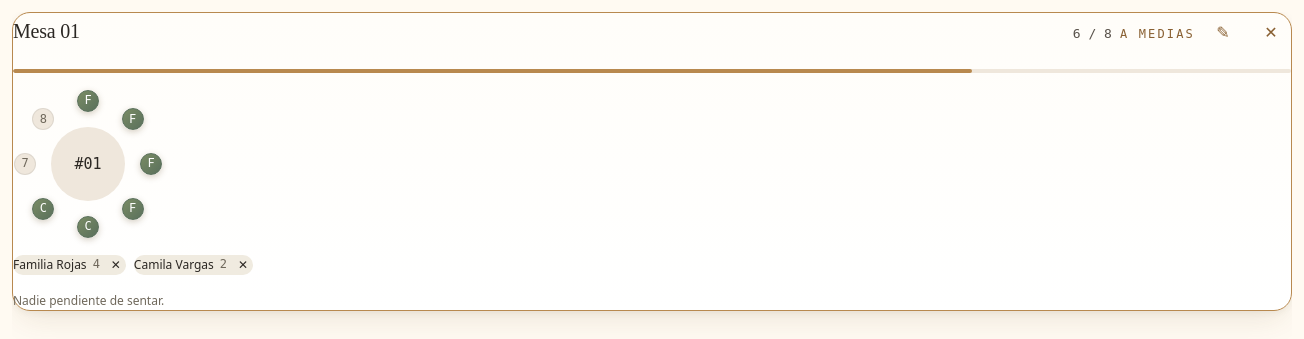
Test: TableCard · borrar una mesa › «No» se vuelve atrás sin borrar nada
The width and height of the screenshot is (1304, 339).
Click the button named "Eliminar Mesa 01".
click(1271, 33)  # box top-left (1251, 13), bottom-right (1291, 53)
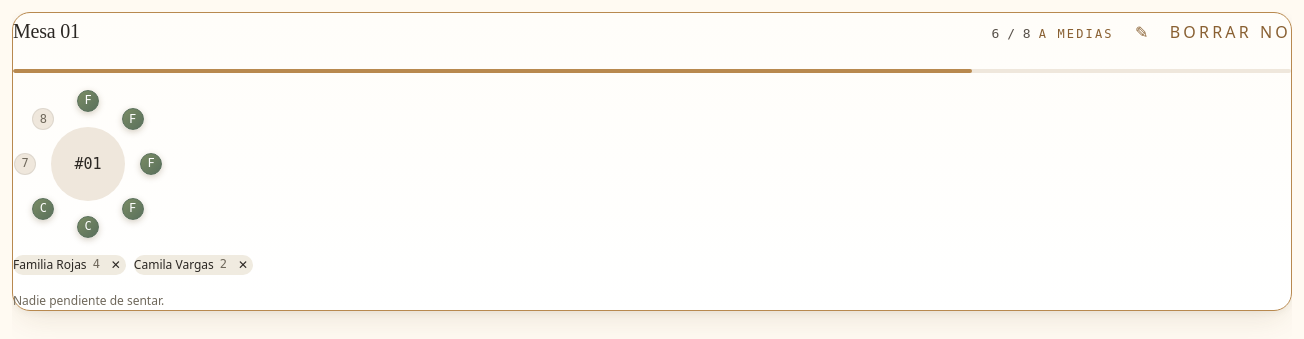
Click the button "No".
click(1275, 33)  # box top-left (1260, 20), bottom-right (1291, 46)
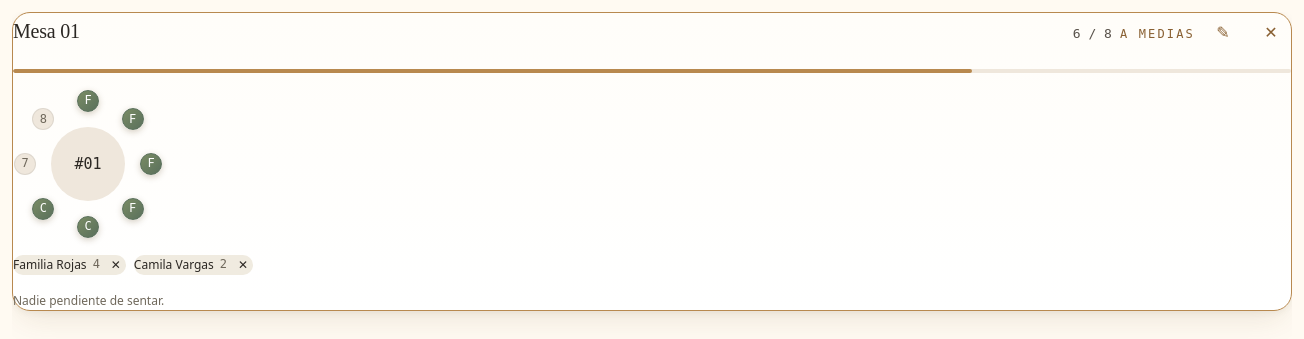
Result: the button named "Eliminar Mesa 01" is shown at top-left (1251, 13), bottom-right (1291, 53)
